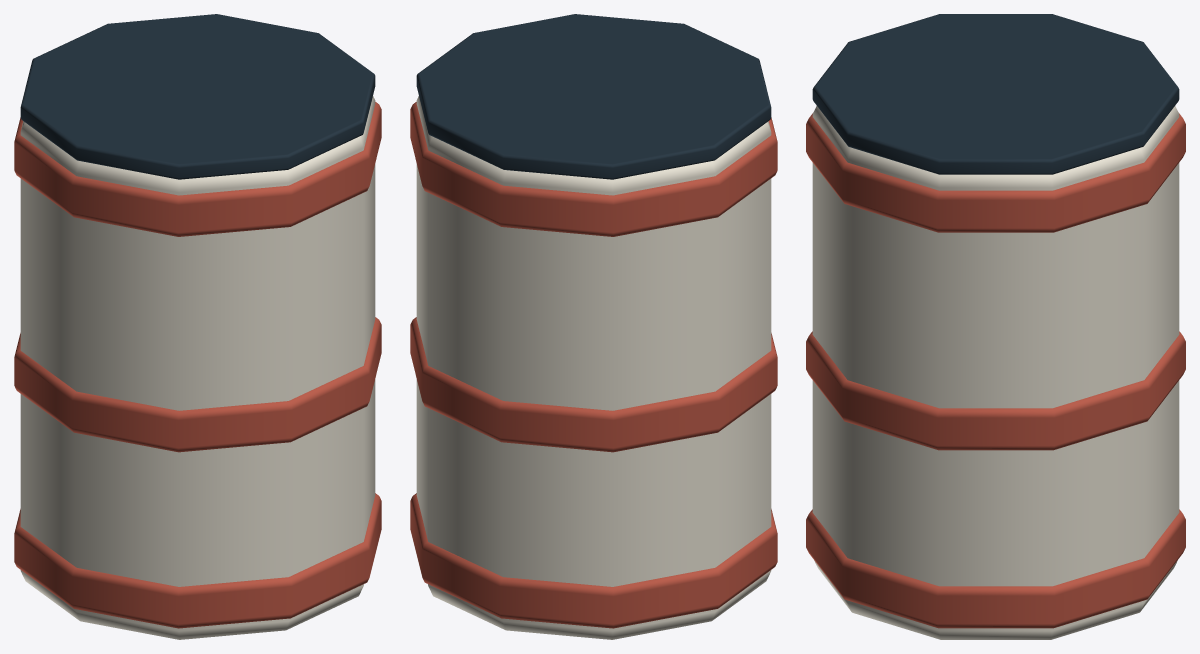
File: barrel.glb
3 renders of one model, left to right at view 1: azimuth 30°, elevation 25°; view 2: azimuth 150°, elevation 25°; view 3: azimuth 270°, elevation 25°, orthographic.
Parts seen in each view (by area): view 1: barrel.001, barrel_red, cap; view 2: barrel.001, barrel_red, cap; view 3: barrel.001, barrel_red, cap.
Boxes of the visible parts, bbox=[...] form: barrel.001: bbox=[20, 96, 375, 639]; barrel_red: bbox=[14, 102, 381, 628]; cap: bbox=[20, 14, 375, 179]; barrel.001: bbox=[416, 96, 771, 639]; barrel_red: bbox=[410, 102, 777, 628]; cap: bbox=[416, 14, 771, 179]; barrel.001: bbox=[812, 106, 1179, 639]; barrel_red: bbox=[806, 113, 1185, 628]; cap: bbox=[812, 14, 1179, 174].
Bounding box in the file's own units: 0.8274 × 1.23 × 0.87.
